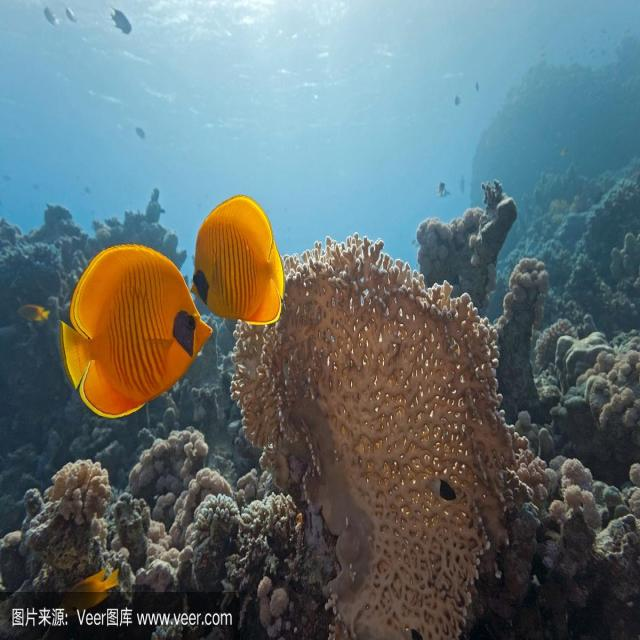ButterflyFish: (63, 248, 213, 417), (194, 197, 284, 328)
